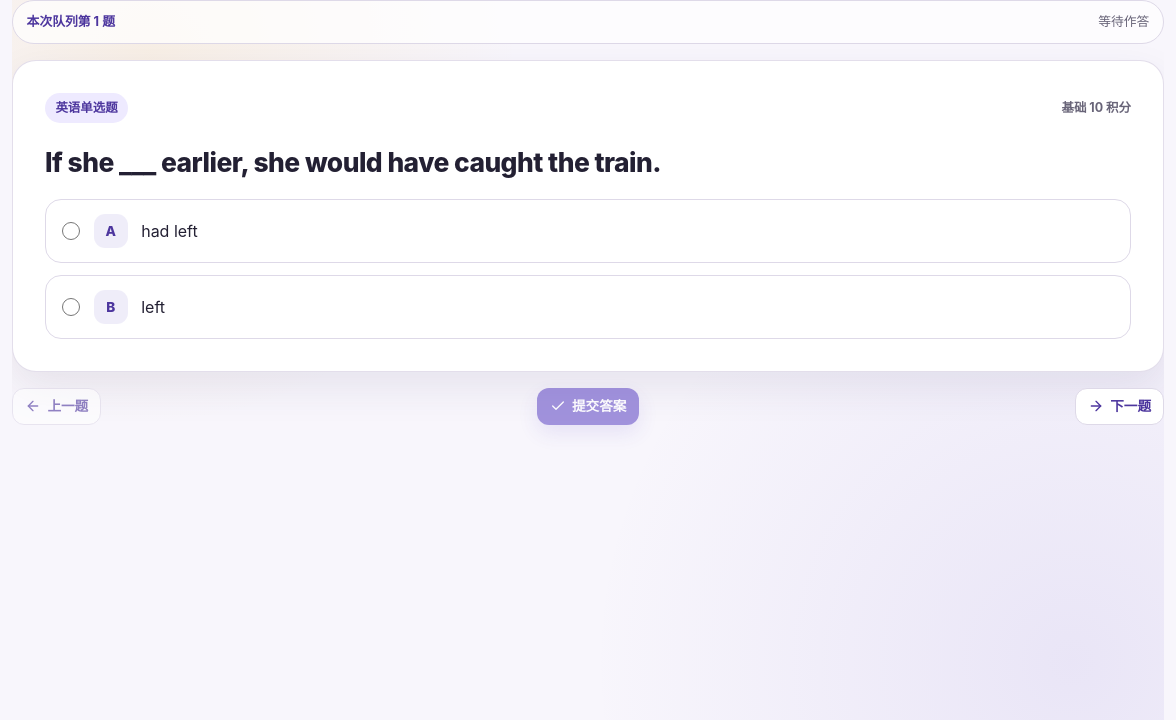
随机练习队列 › 队尾请求新题时排除队列中尚未提交的题目
Expected: the text "If she ___ earlier, she would have caught the train." is shown, [45,146,661,178]
Click the button "下一题". click: [1119, 406]
box: [1075,388,1164,425]
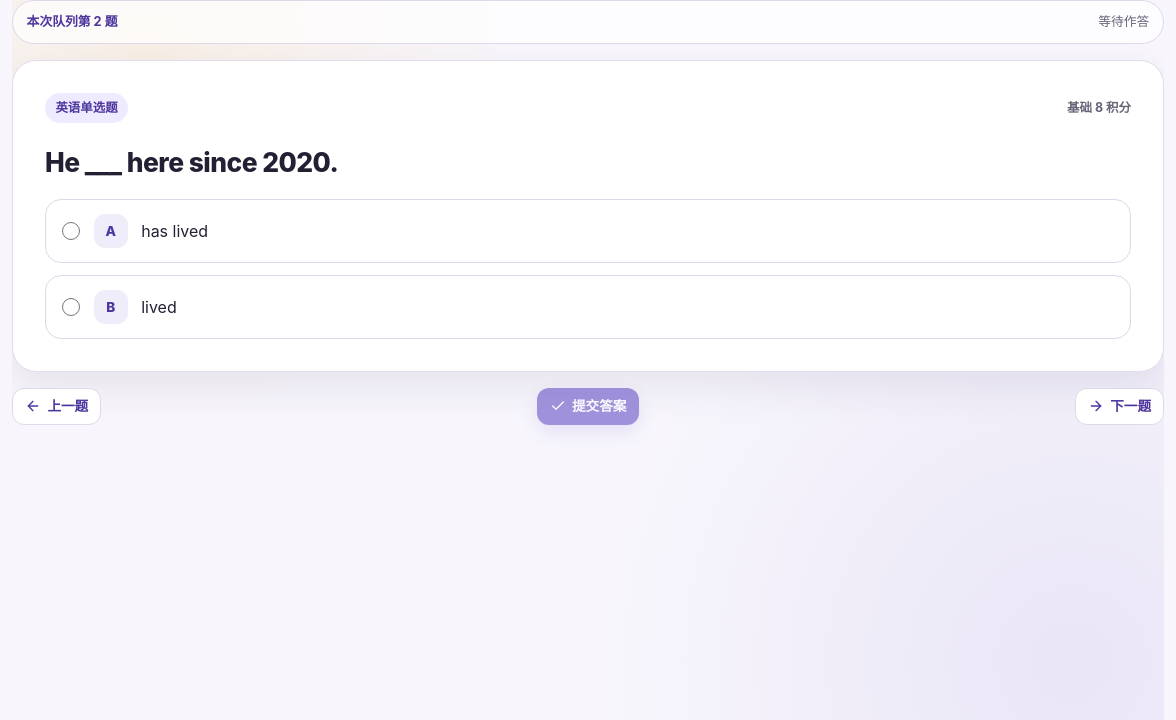
Expected: the text "He ___ here since 2020." is shown, [45,146,338,178]
